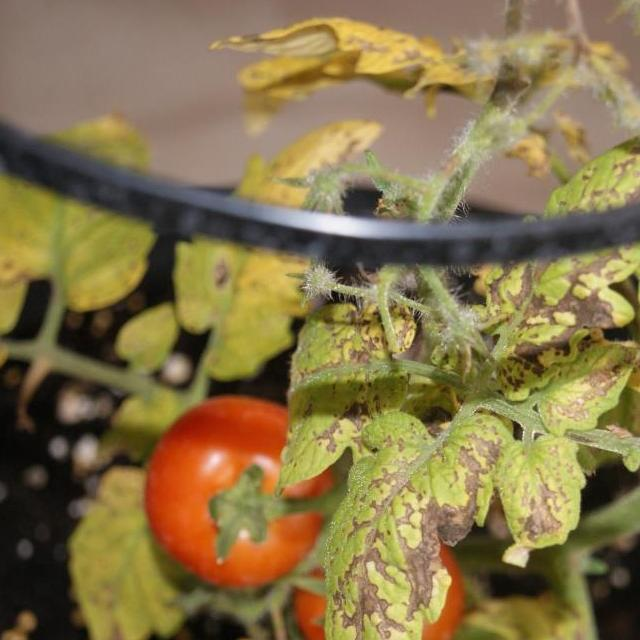Tomato leaf bacterial spot: (316, 387, 519, 640), (488, 94, 640, 362), (279, 294, 408, 488), (499, 426, 590, 567)
